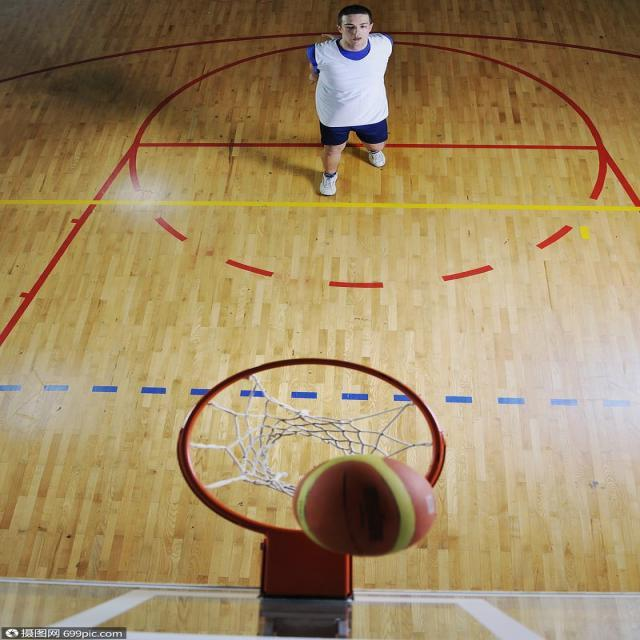rim: (296, 459, 448, 552)
